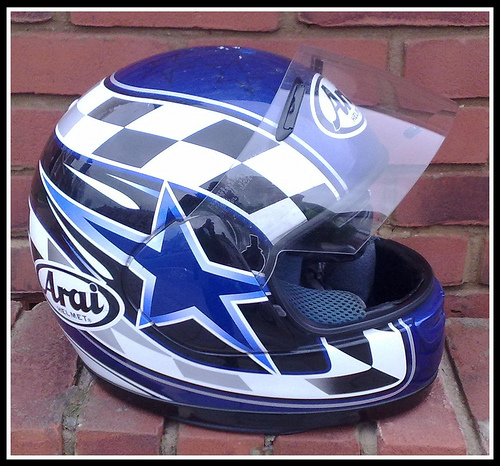helmet: (24, 49, 450, 405)
